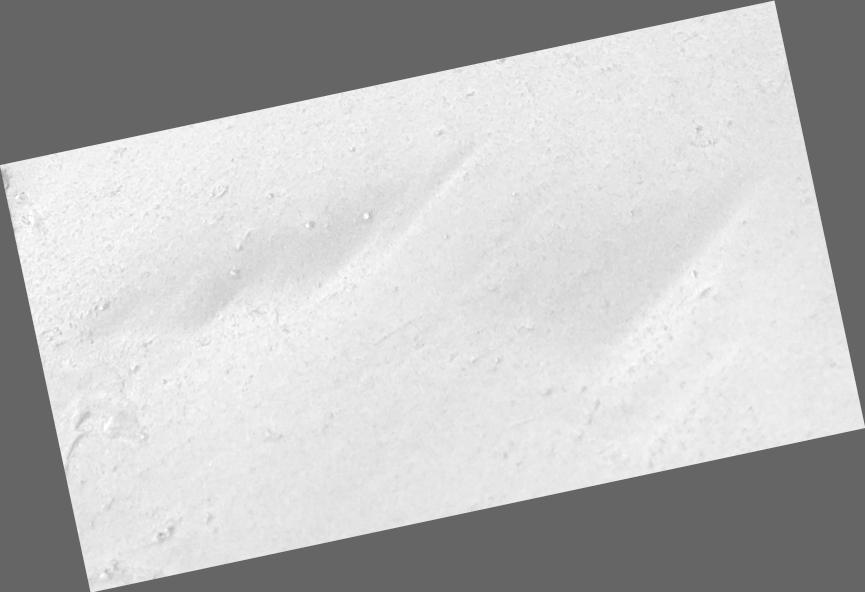dent: (1, 0, 864, 591)
